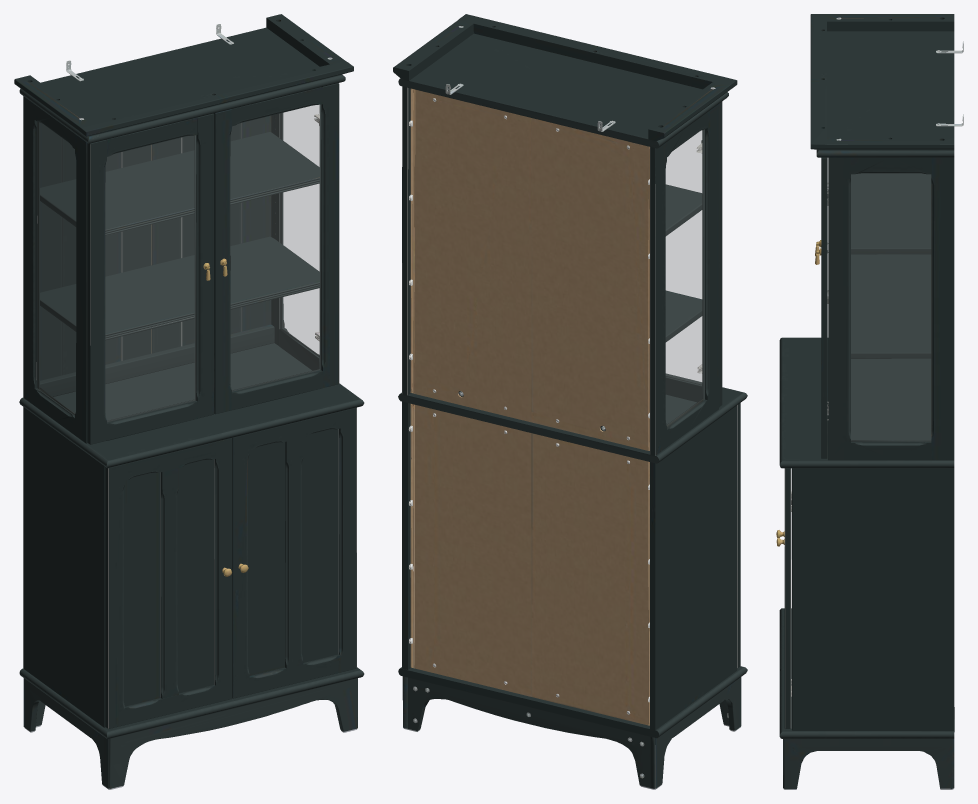
File: storage-4.glb
3 renders of one model, left to right at view 1: azimuth 30°, elevation 25°; view 2: azimuth 150°, elevation 25°; view 3: azimuth 270°, elevation 25°, orthographic.
Parts seen in each view (by area): view 1: 1, 2; view 2: 1, 2; view 3: 1, 2.
Boxes of the visible parts, x1=… form: 1: x1=14, y1=14, x2=364, y2=789; 2: x1=38, y1=105, x2=320, y2=421; 1: x1=393, y1=14, x2=747, y2=789; 2: x1=666, y1=130, x2=704, y2=426; 1: x1=776, y1=14, x2=963, y2=789; 2: x1=851, y1=174, x2=930, y2=440.
Bounding box in the file's own units: 0.8564 × 1.99 × 0.5197.
2 materials, 2 textured.
